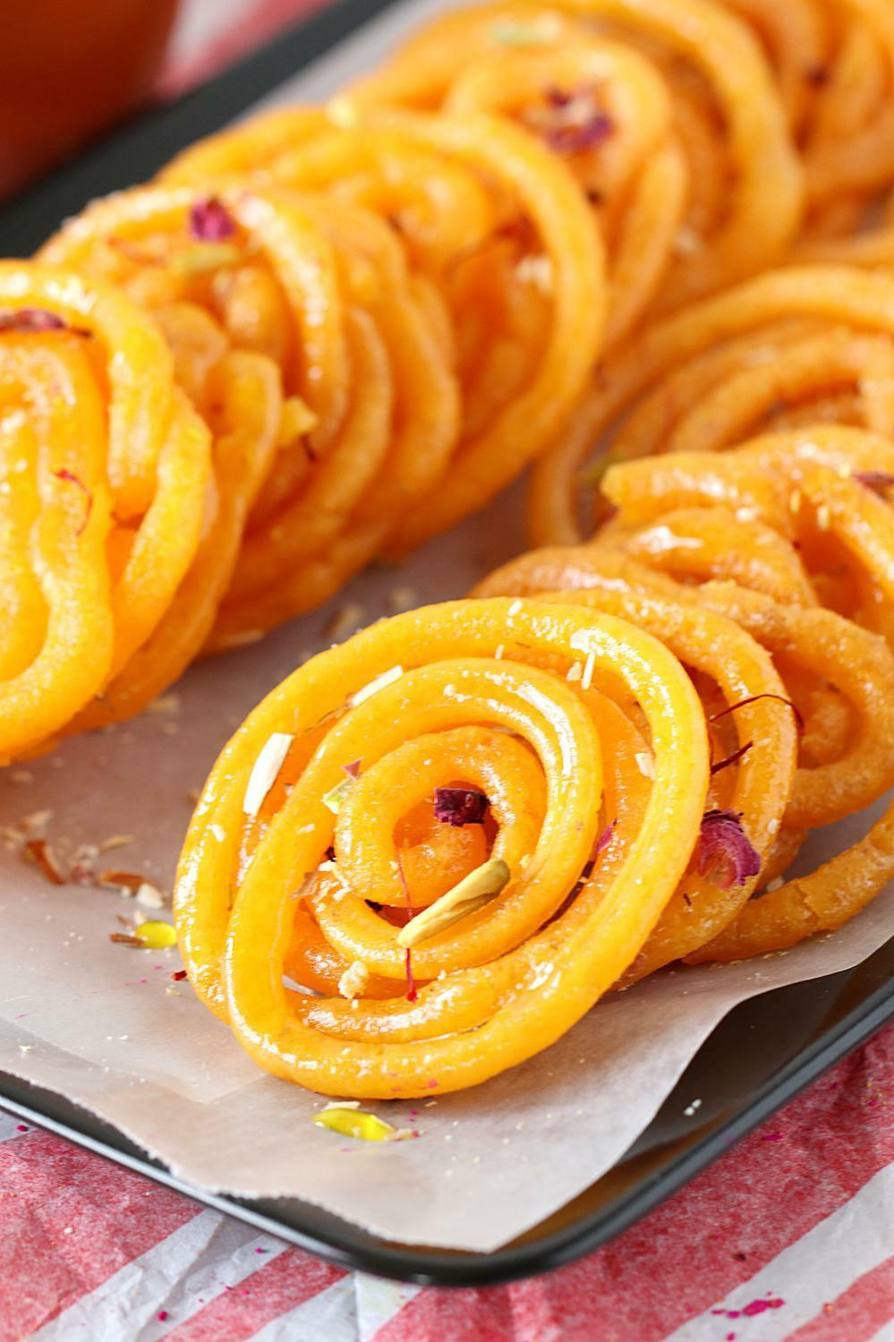Jalebi: (0, 0, 894, 1100)
